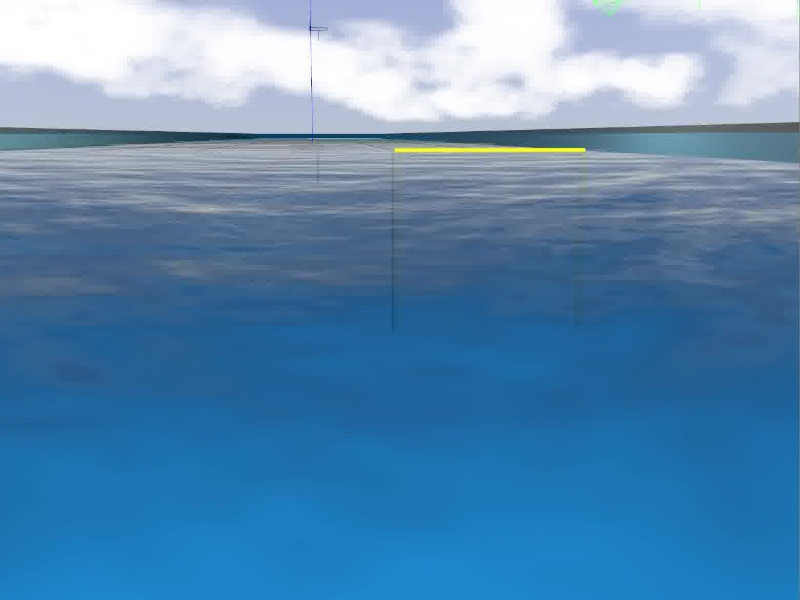gate: (389, 146, 587, 333)
